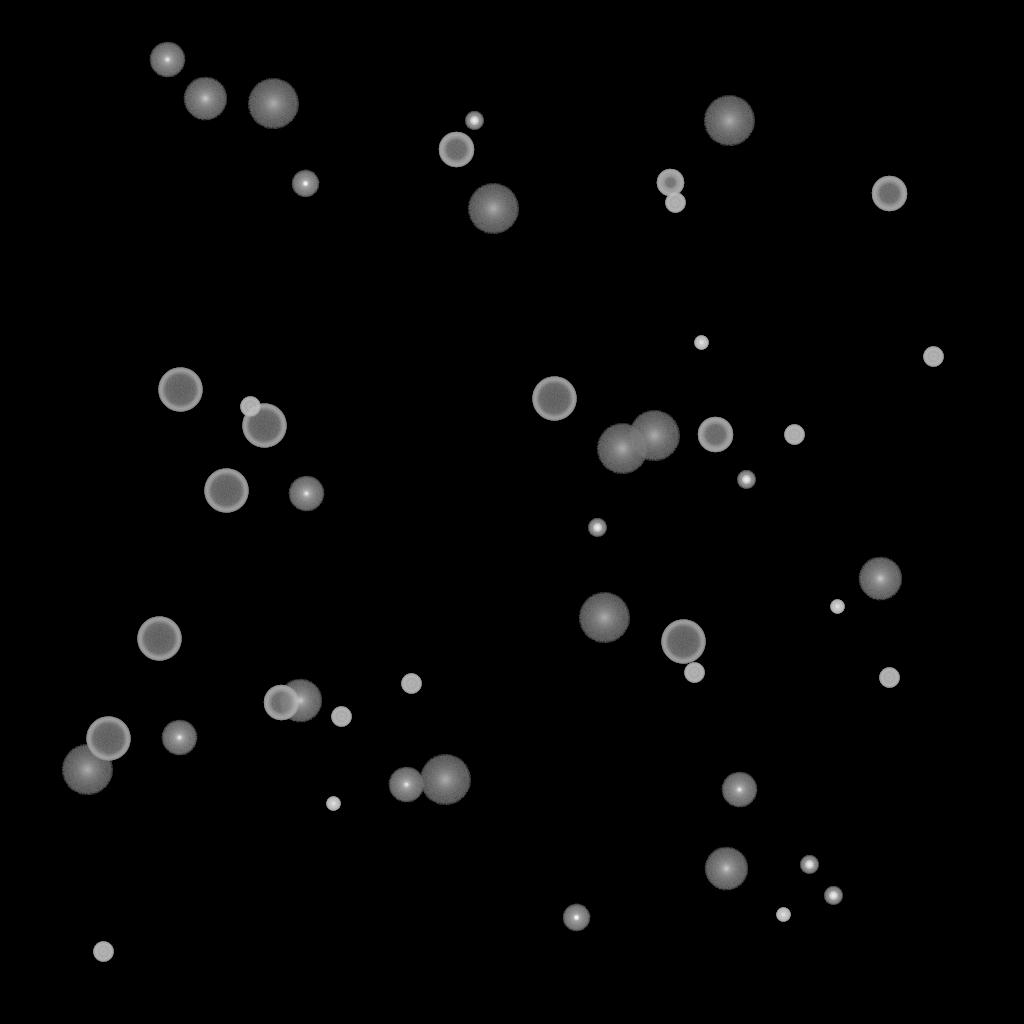depth:-10: (562, 904, 590, 932), (291, 170, 319, 198)
depth:-20: (465, 112, 483, 130), (824, 887, 842, 905), (737, 471, 755, 489), (800, 856, 818, 874), (588, 519, 606, 537)
depth:-30: (776, 908, 790, 922), (326, 797, 340, 811), (830, 600, 844, 614), (694, 336, 708, 350)
depth:-40: (923, 347, 943, 367), (784, 425, 804, 445), (93, 942, 113, 962), (240, 397, 260, 417), (879, 668, 899, 688), (665, 193, 685, 213), (684, 663, 704, 683), (401, 674, 421, 694), (331, 707, 351, 727)
depth:-50: (656, 169, 684, 197)
depth:-60: (438, 132, 474, 168), (871, 176, 907, 212), (697, 417, 733, 453), (263, 685, 299, 721)
depth:-70: (661, 620, 705, 664), (532, 377, 576, 421), (158, 368, 202, 412), (242, 404, 286, 448), (204, 469, 248, 513), (137, 617, 181, 661), (86, 717, 130, 761)
depth:0: (721, 772, 757, 808), (161, 720, 197, 756), (149, 42, 185, 78), (388, 767, 424, 803), (288, 476, 324, 512)
depth:10: (858, 557, 902, 601), (278, 679, 322, 723), (704, 847, 748, 891), (183, 77, 227, 121)
depth:20: (419, 755, 471, 805), (247, 79, 299, 129), (578, 593, 630, 643), (61, 745, 113, 795), (596, 424, 648, 474), (703, 96, 755, 146), (628, 411, 680, 461), (467, 184, 519, 234)
